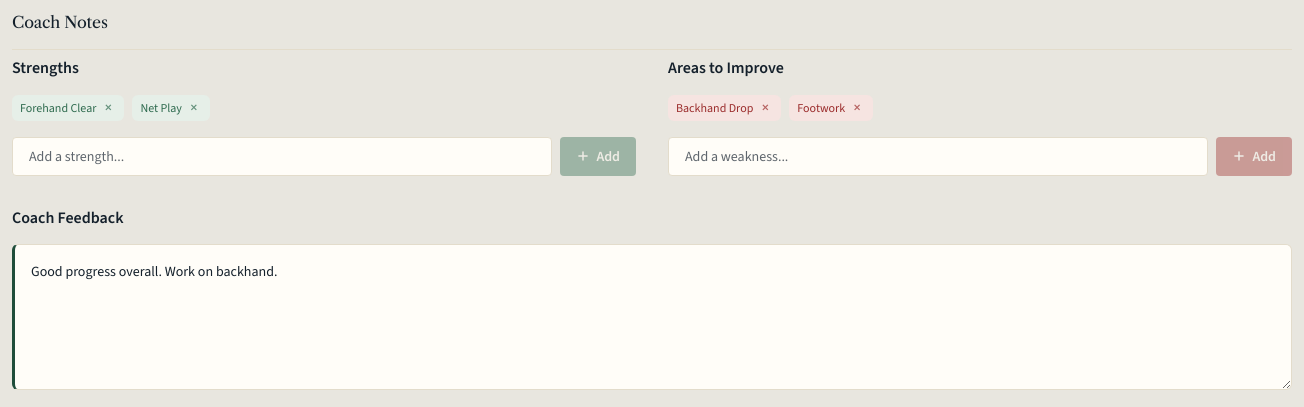
TrainingTab › HEAD_COACH role - editable › adds a new strength tag
The width and height of the screenshot is (1304, 407).
In the field named "New strength": (282, 156) [12,137,552,176], type "Smash"
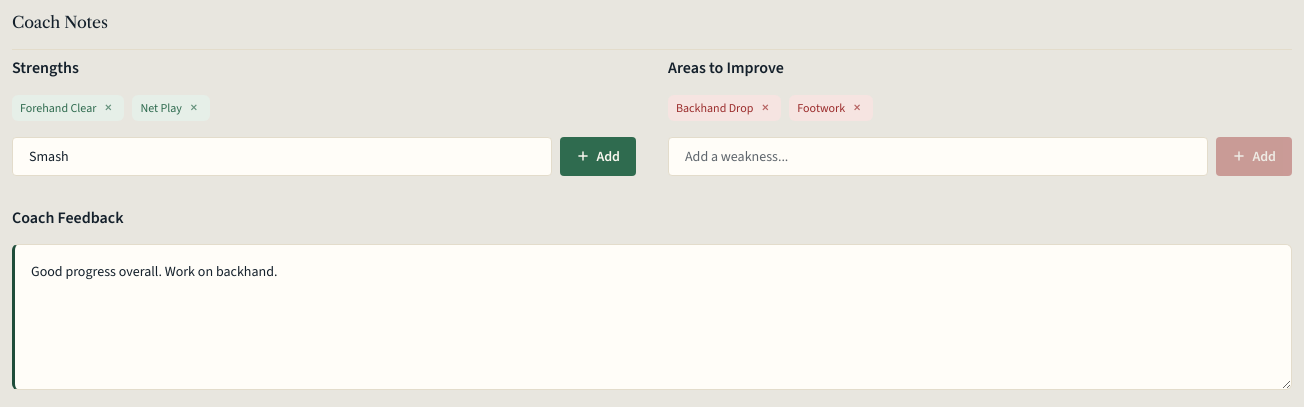
Click the 1st button "Add": (598, 156) [560,137,636,176]
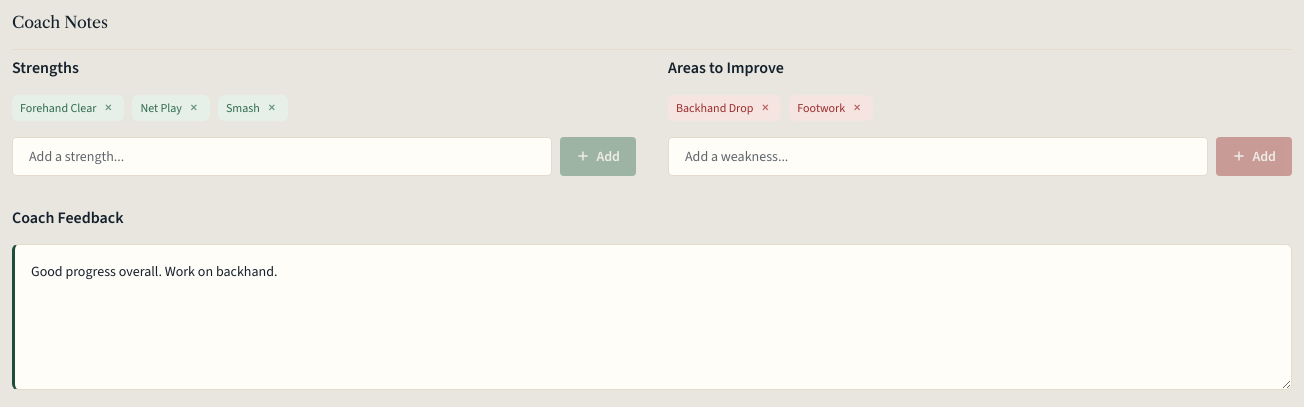
Now the text "Smash" is shown, box [226,100,260,116]
